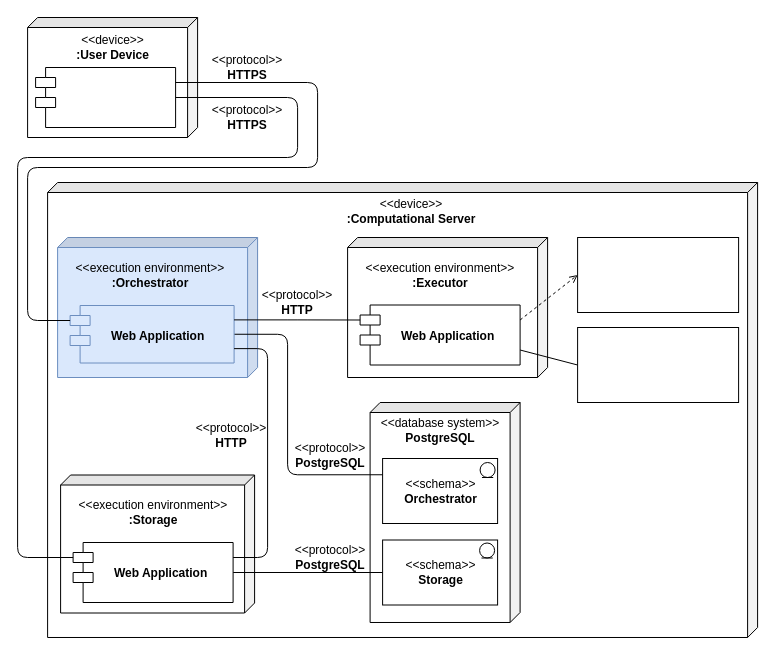
This 775x655 diagram has some shape labels left out. The shapes that lost their labels are listed below. From the top down, each one's box as (x1, y1, x2, y2) in pixels, then its label:
(35, 66, 176, 128): Web Client
(577, 236, 739, 312): <<artifact>> Plan Design Algorithms
(577, 326, 739, 402): <<volume>> File Storage
